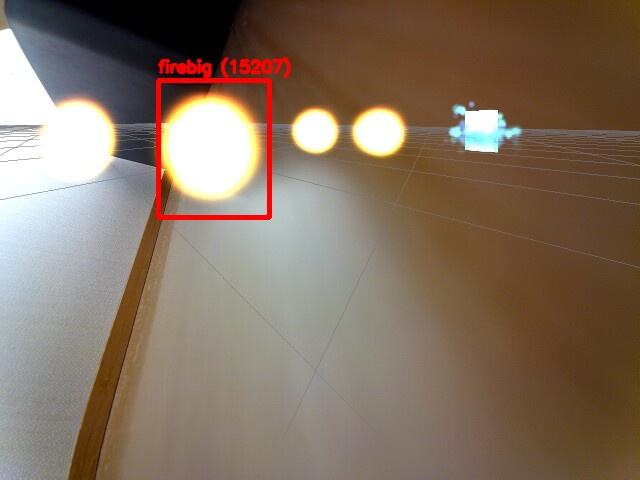firebig: (158, 80, 269, 217)
